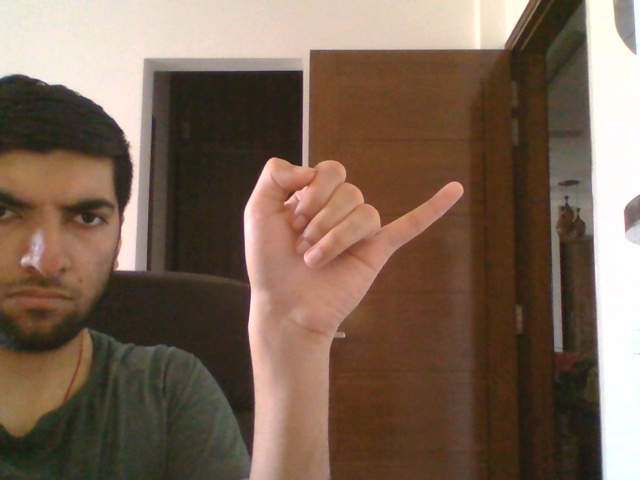LetterJ: (241, 154, 465, 333)
